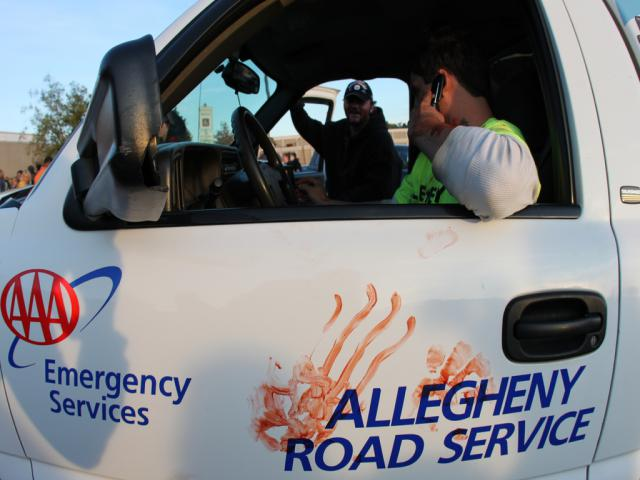Door-handle: (502, 294, 606, 360)
